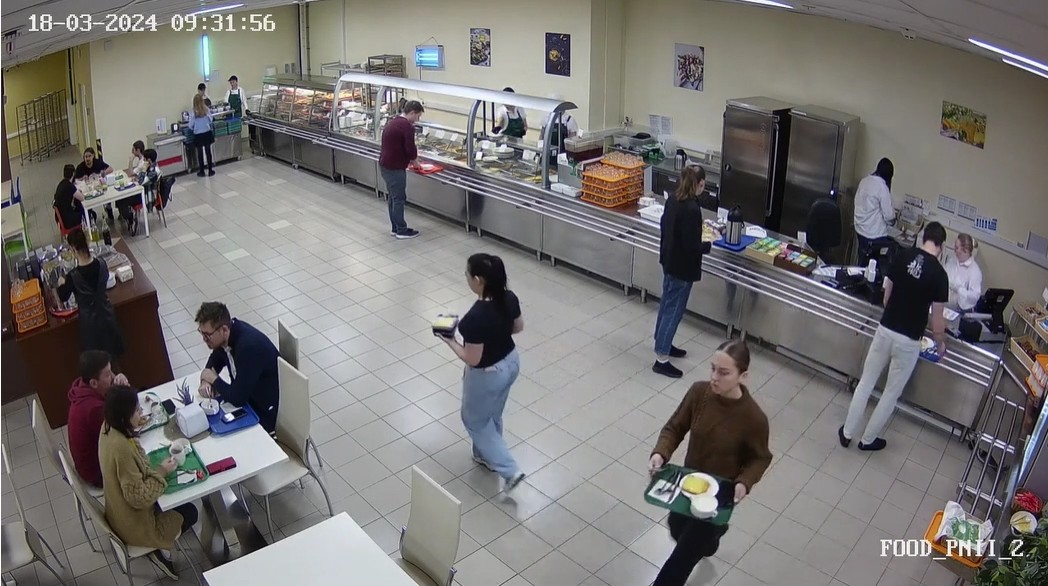Na_Kasse: (756, 211, 983, 457)
Ne_v_Ocheredi: (648, 340, 793, 586), (432, 243, 563, 504), (61, 228, 114, 340)
Personal: (850, 148, 898, 269), (946, 226, 990, 309), (541, 90, 584, 160), (493, 81, 534, 148), (225, 67, 252, 121)
Vybiraet: (647, 155, 712, 382), (368, 86, 433, 249), (184, 94, 223, 177)
Za_Stolom: (193, 283, 302, 420), (93, 389, 180, 556), (58, 350, 124, 487), (49, 163, 85, 234), (66, 141, 117, 182), (135, 148, 167, 205), (123, 134, 147, 175)
